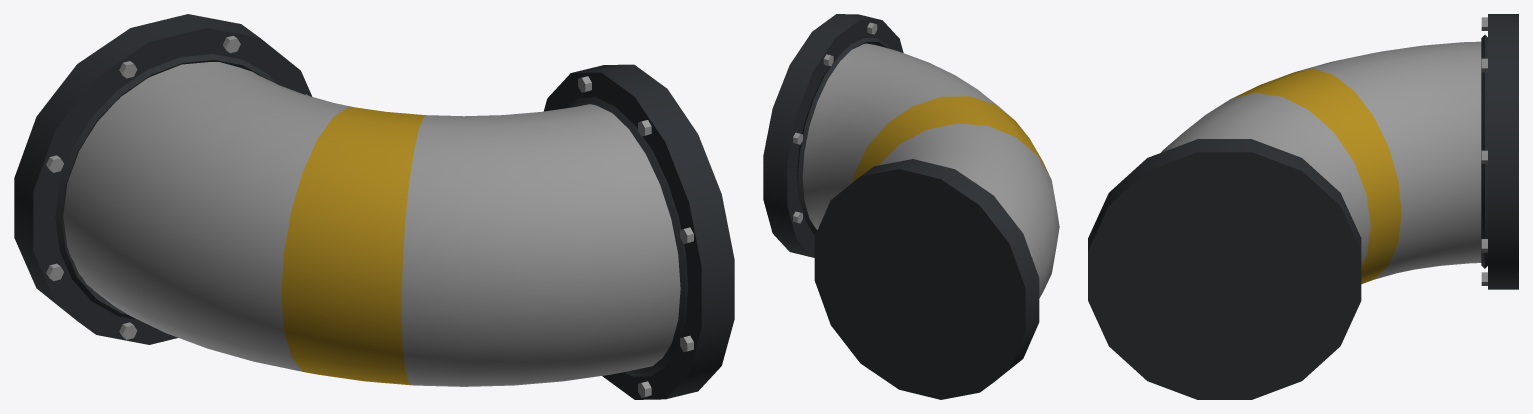
File: Pipe_Elbow.fbx
3 views of the same model, side by side, from view 1: azimuth 30°, elevation 25°; view 2: azimuth 150°, elevation 25°; view 3: azimuth 270°, elevation 25° (orthographic). The views are drawn at different scales.
Visible parts, largest first — view 1: Pipe_Elbow_LOD0; view 2: Pipe_Elbow_LOD0; view 3: Pipe_Elbow_LOD0.
Part boxes in pixels (bbox=[...]): Pipe_Elbow_LOD0: bbox=[14, 14, 734, 399]; Pipe_Elbow_LOD0: bbox=[763, 14, 1059, 399]; Pipe_Elbow_LOD0: bbox=[1088, 14, 1518, 399].
Size of what is drawn, in the model's own units: 0.6957 by 0.4414 by 0.6957.
